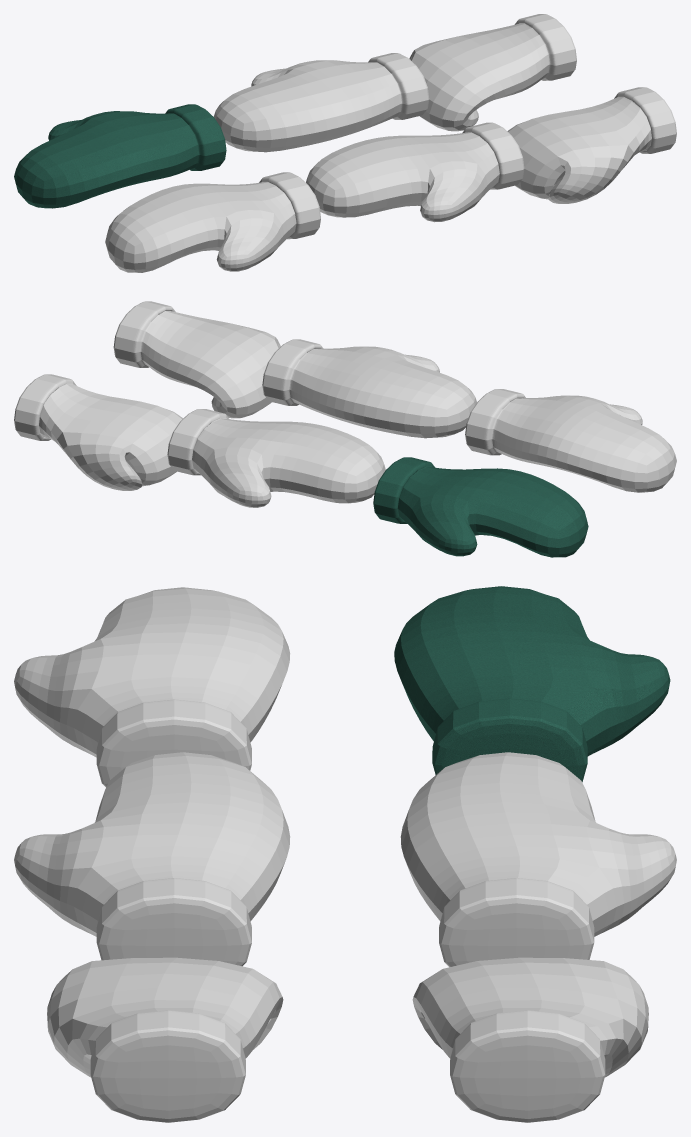
File: GloveUnity.fbx
3 renders of one model, top to bottom at view 1: azimuth 30°, elevation 25°; view 2: azimuth 150°, elevation 25°; view 3: azimuth 270°, elevation 25°, orthographic. The views are drawn at different scales.
Visible parts, largest first — view 1: Glove.R, GloveOrigina.R, GloveOrigina.L, Glove.L, GloveClosed.R, GloveClosed.L; view 2: GloveOrigina.L, Glove.L, GloveOrigina.R, Glove.R, GloveClosed.L, GloveClosed.R; view 3: GloveOrigina.L, GloveOrigina.R, Glove.L, Glove.R, GloveClosed.R, GloveClosed.L.
Boxes of the visible parts, left/top/right/bottom form: Glove.R: left=105, top=172, right=320, bottom=272; GloveOrigina.R: left=306, top=122, right=524, bottom=222; GloveOrigina.L: left=214, top=53, right=429, bottom=152; Glove.L: left=14, top=104, right=226, bottom=208; GloveClosed.R: left=507, top=87, right=676, bottom=203; GloveClosed.L: left=409, top=14, right=576, bottom=131; GloveOrigina.L: left=167, top=409, right=385, bottom=507; Glove.L: left=373, top=457, right=588, bottom=557; GloveOrigina.R: left=262, top=339, right=476, bottom=438; Glove.R: left=465, top=389, right=676, bottom=492; GloveClosed.L: left=14, top=374, right=182, bottom=490; GloveClosed.R: left=113, top=301, right=280, bottom=418; GloveOrigina.L: left=400, top=752, right=676, bottom=967; GloveOrigina.R: left=14, top=752, right=290, bottom=966; Glove.L: left=394, top=586, right=670, bottom=782; Glove.R: left=14, top=587, right=290, bottom=787; GloveClosed.R: left=47, top=957, right=283, bottom=1122; GloveClosed.L: left=412, top=957, right=648, bottom=1122.
Size of the model in its own units: 2334 by 327 by 1374.
